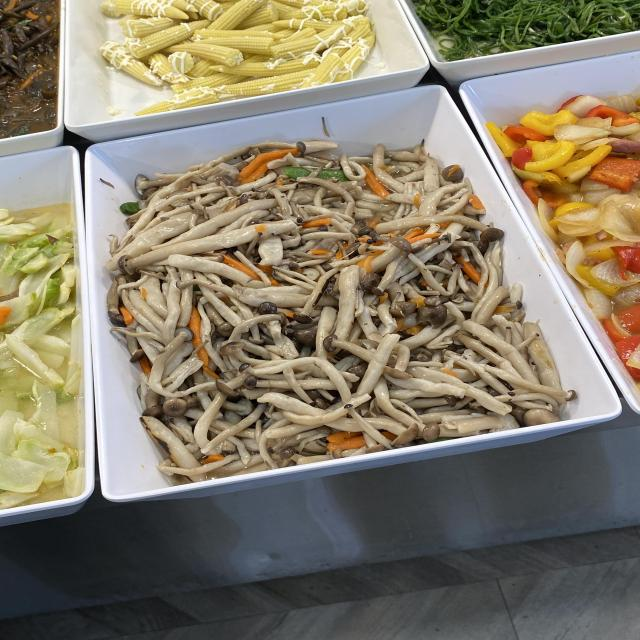brown swordbelt: (148, 190, 472, 402)
